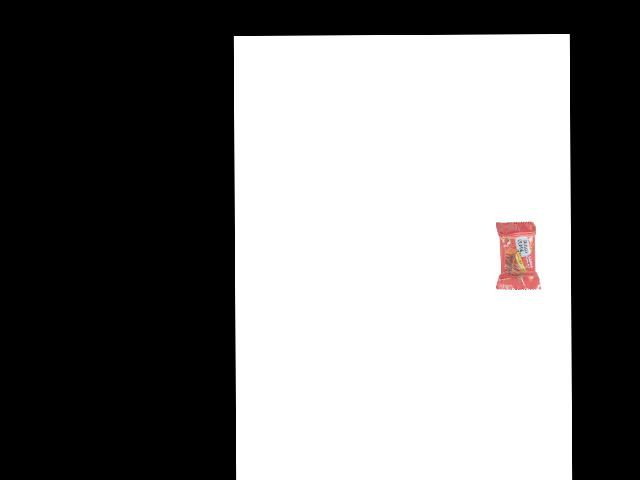chocolate: (496, 215, 545, 290)
